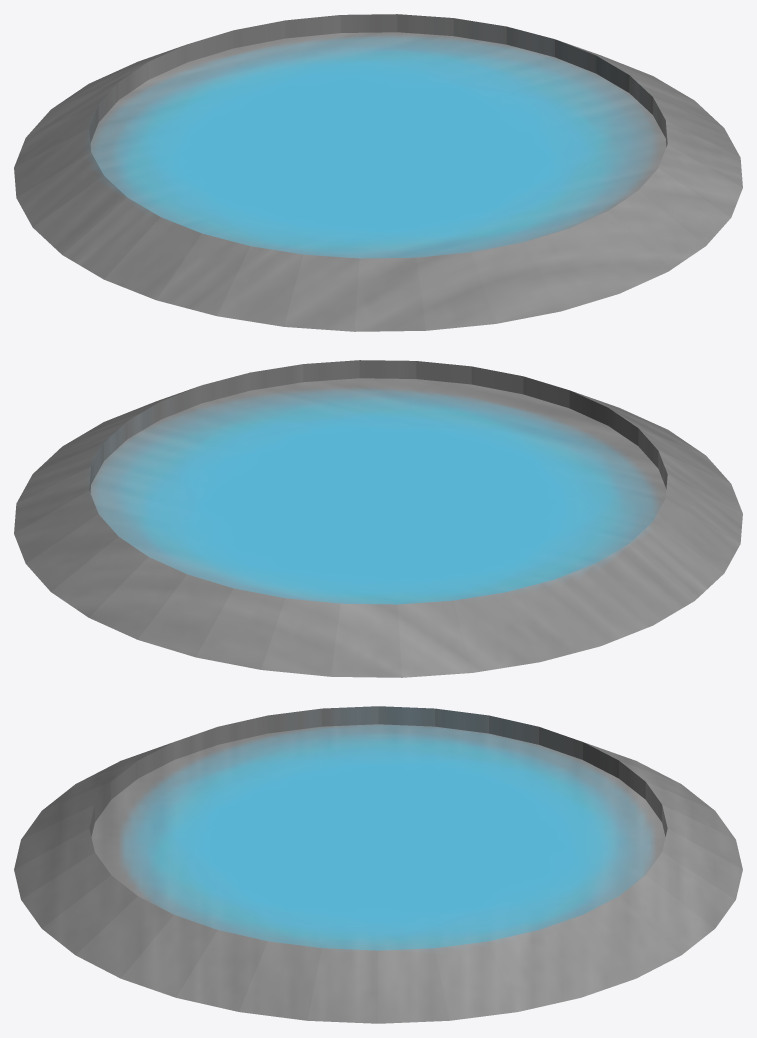
Rendered from backdrop.fbx.
The picture shows the model from 3 angles, top to bottom: view 1: azimuth 30°, elevation 25°; view 2: azimuth 150°, elevation 25°; view 3: azimuth 270°, elevation 25°; orthographic projection.
Parts seen in each view (by area): view 1: Cylinder; view 2: Cylinder; view 3: Cylinder.
Boxes of the visible parts, x1,y1,x2,y2 form: Cylinder: (14,14,742,331); Cylinder: (14,360,742,677); Cylinder: (14,706,742,1023).
Size of the model in its own units: 200 by 12.52 by 200.
